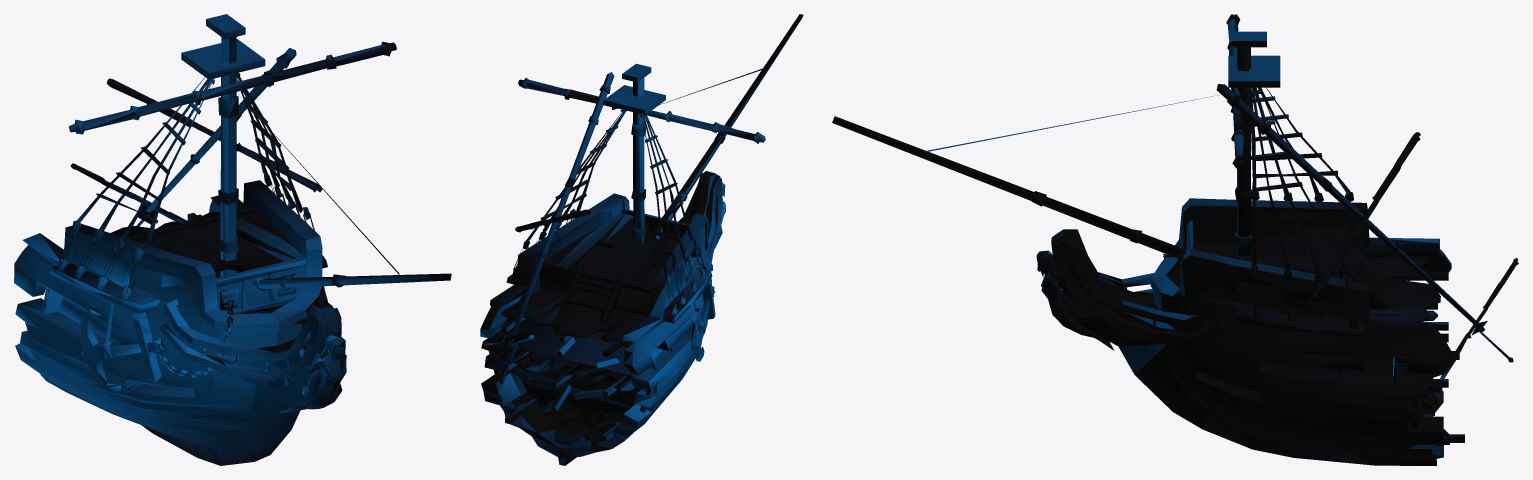
The model's file is bow-blue.fbx.
The picture shows the model from 3 angles, left to right: view 1: azimuth 30°, elevation 25°; view 2: azimuth 150°, elevation 25°; view 3: azimuth 270°, elevation 25°; orthographic projection. The views are drawn at different scales.
Visible parts, largest first — view 1: SM_Prop_Shipwreck_03; view 2: SM_Prop_Shipwreck_03; view 3: SM_Prop_Shipwreck_03.
Boxes of the visible parts, x1,y1,x2,y2 form: SM_Prop_Shipwreck_03: (14, 14, 451, 465); SM_Prop_Shipwreck_03: (480, 14, 803, 465); SM_Prop_Shipwreck_03: (832, 14, 1518, 465).
Bounding box in the file's own units: 12.02 × 16.13 × 23.47.
